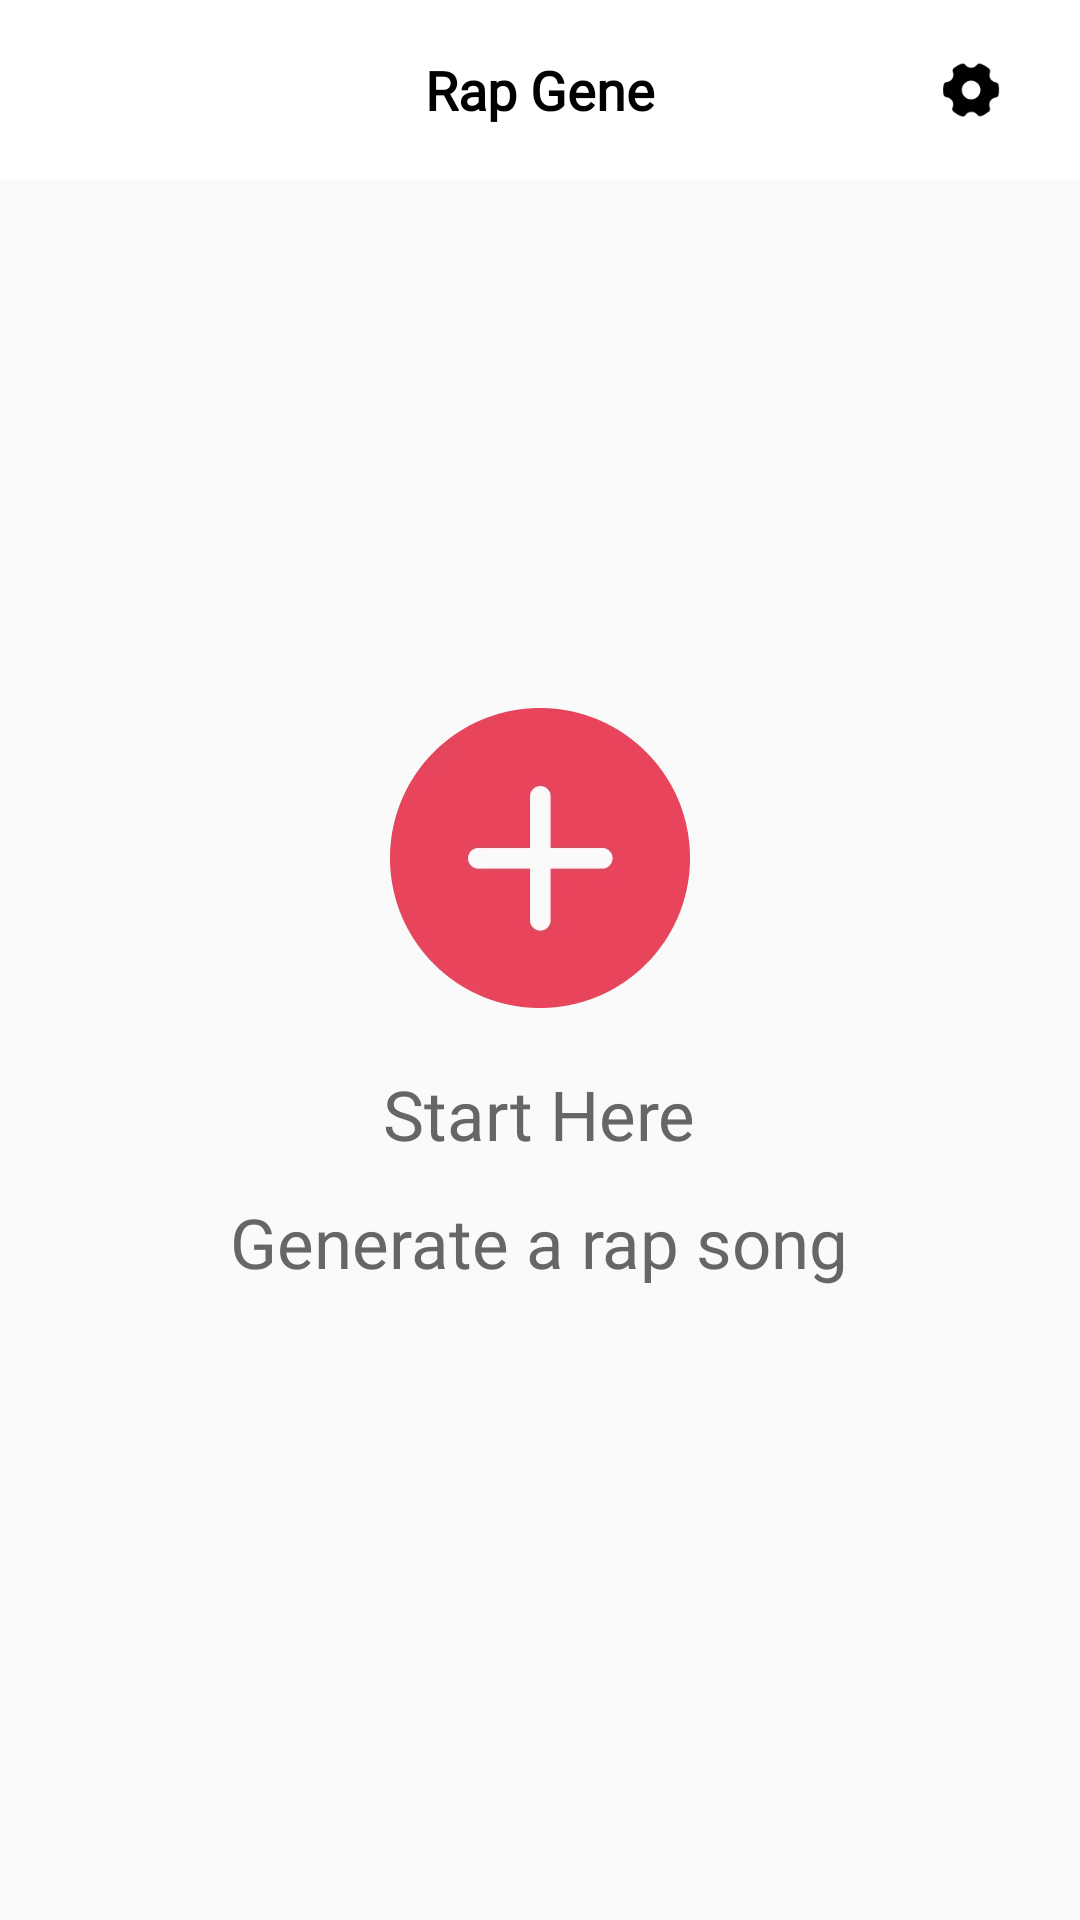

Named icons in this screenshot (1080px×1920px) and their centers, [x,y]:
generate: [540,858]
settings: [971,90]
